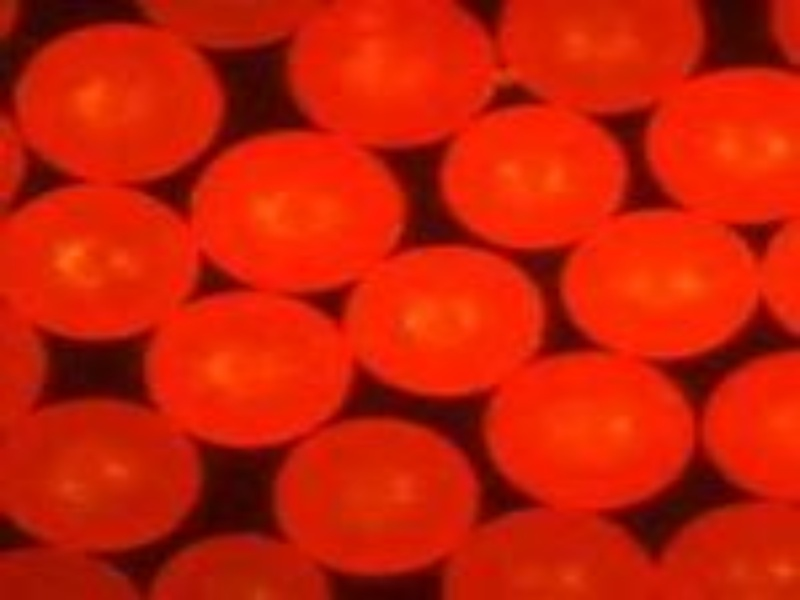bead: (185, 126, 408, 296), (480, 345, 701, 511), (143, 288, 359, 451), (271, 415, 483, 575), (16, 22, 227, 182), (1, 181, 208, 343), (555, 208, 766, 364), (1, 396, 208, 553), (343, 245, 553, 399), (283, 1, 496, 150), (437, 102, 639, 248), (496, 1, 709, 120), (642, 66, 800, 224), (441, 505, 666, 600), (694, 343, 800, 509)
